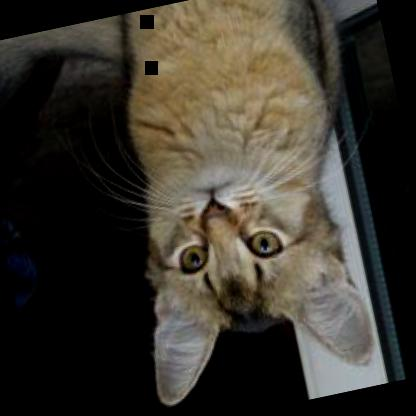cat: (76, 0, 403, 411)
